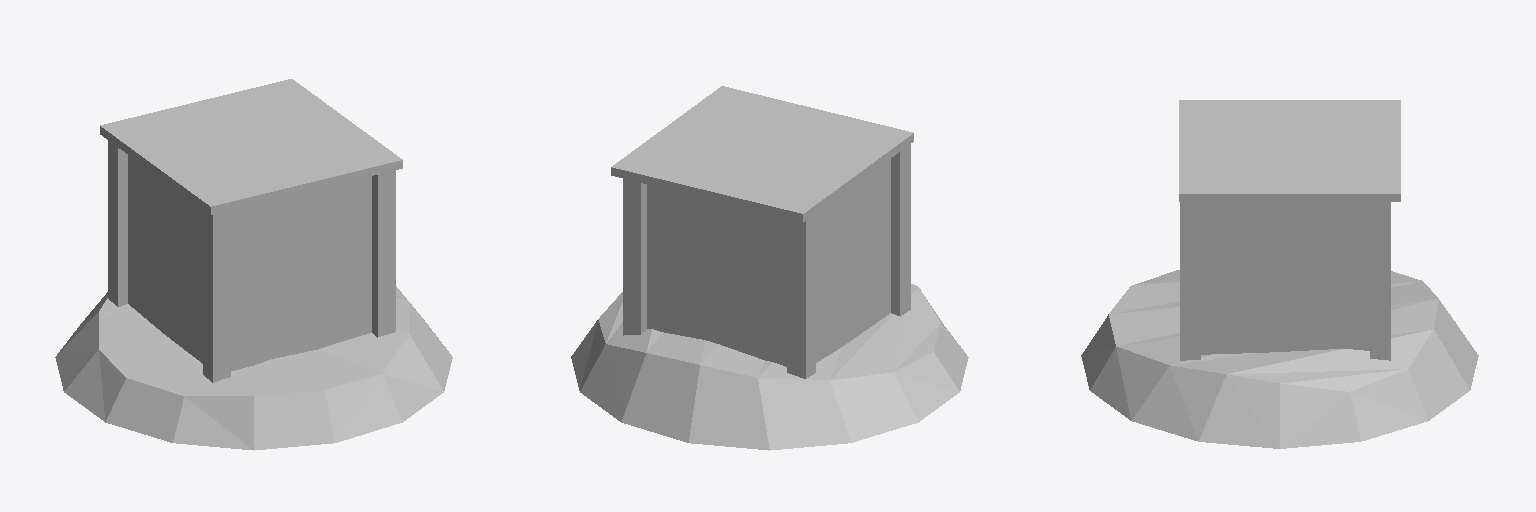
The model's file is crate.obj.
The picture shows the model from 3 angles: view 1: azimuth 30°, elevation 25°; view 2: azimuth 150°, elevation 25°; view 3: azimuth 270°, elevation 25°; orthographic projection.
Visible parts, largest first — view 1: crate:pCylinder4; view 2: crate:pCylinder4; view 3: crate:pCylinder4.
Boxes of the visible parts, x1=… form: crate:pCylinder4: x1=55, y1=79, x2=452, y2=450; crate:pCylinder4: x1=571, y1=86, x2=968, y2=450; crate:pCylinder4: x1=1081, y1=100, x2=1478, y2=448.
Bounding box in the file's own units: 1.88 × 1.15 × 1.89.